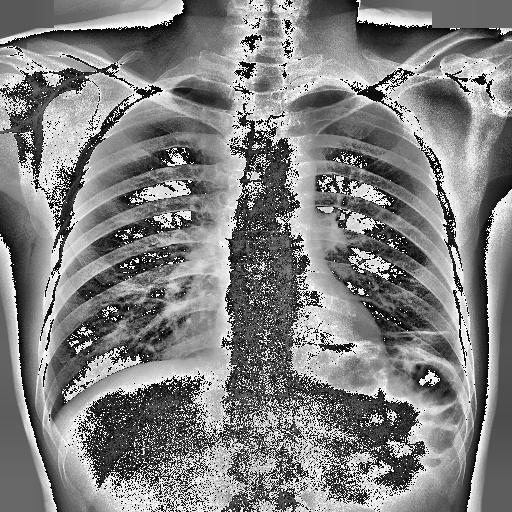13- Pulmonary fibrosis: (374, 325, 452, 361), (374, 328, 450, 336), (382, 330, 450, 336)
9- Other lesion: (373, 342, 472, 394)
